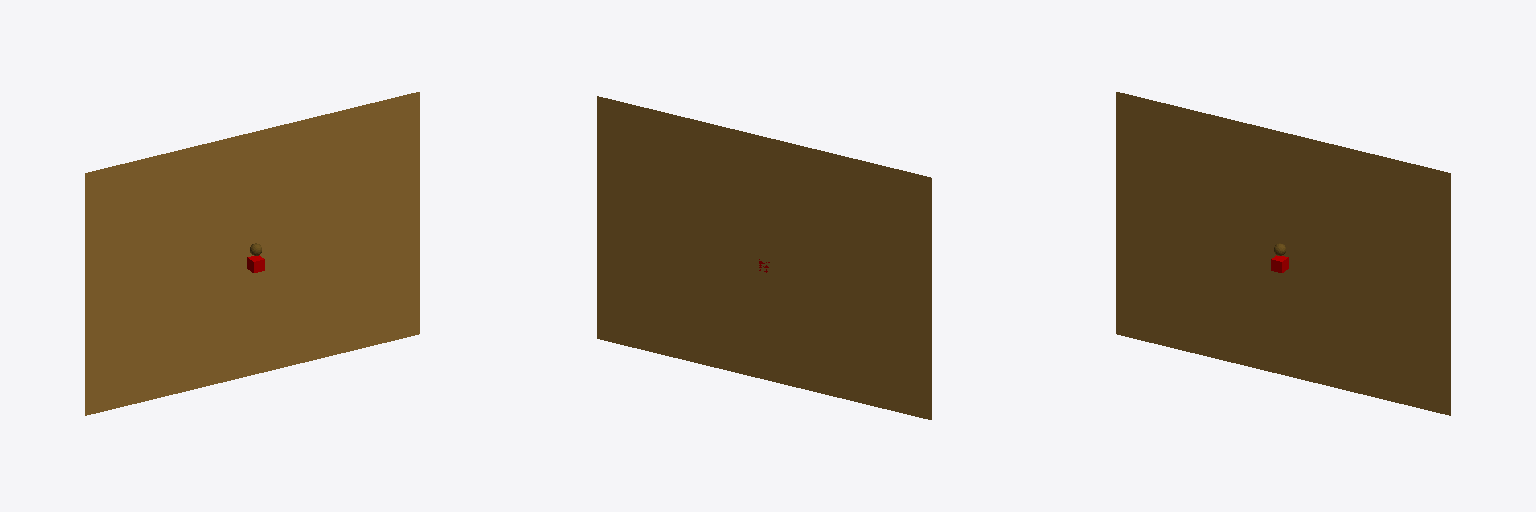
The model's file is cajaEsfera5.obj.
3 views of the same model, side by side, from view 1: azimuth 30°, elevation 25°; view 2: azimuth 150°, elevation 25°; view 3: azimuth 330°, elevation 25° (orthographic).
Visible parts, largest first — view 1: Plane01; view 2: Plane01; view 3: Plane01.
Boxes of the visible parts, x1,y1,x2,y2 form: Plane01: [85, 92, 419, 415]; Plane01: [597, 96, 931, 419]; Plane01: [1116, 92, 1450, 415].
Bounding box in the file's own units: 3039 × 2104 × 100.